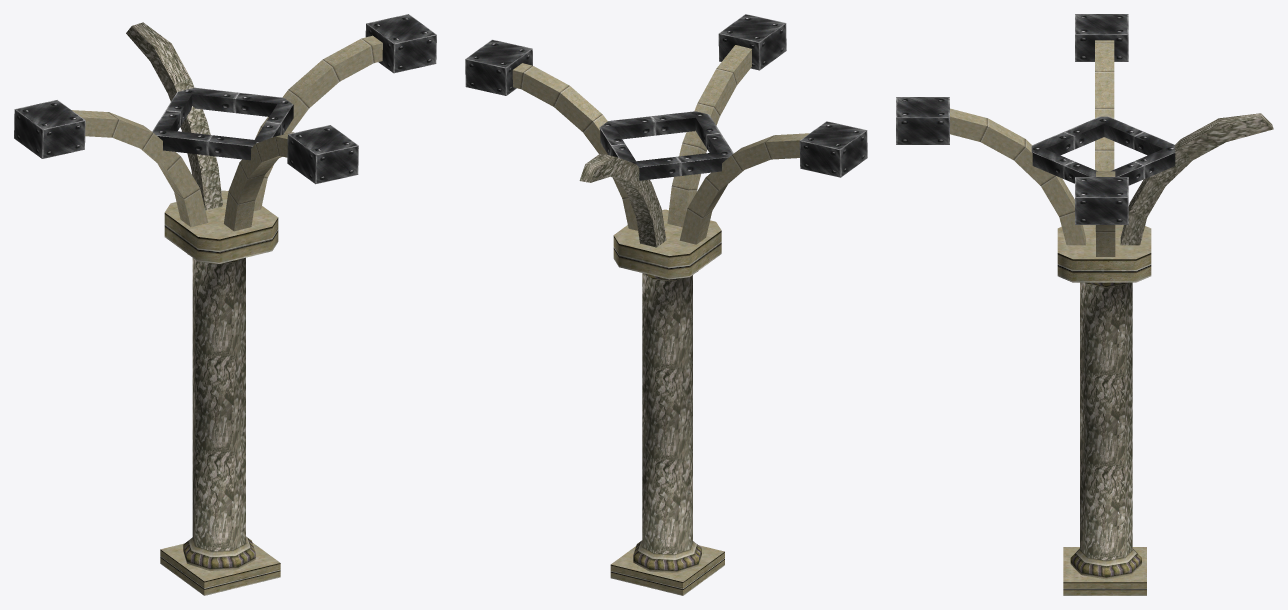
File: INST_SM_COLUMN_CHAIN.obj
The picture shows the model from 3 angles, left to right: view 1: azimuth 30°, elevation 25°; view 2: azimuth 150°, elevation 25°; view 3: azimuth 270°, elevation 25°; orthographic projection. The views are drawn at different scales.
Parts seen in each view (by area): view 1: Cylinder02, Tube01, Box02, Box05, Box08, Box10, Box09, Box11, Box04, Box06, Box01, Object02 (+2 smaller); view 2: Cylinder02, Tube01, Box05, Box06, Box08, Box02, Box09, Box04, Box11, Box10, Box01, Object02 (+2 smaller); view 3: Cylinder02, Tube01, Box02, Box06, Box10, Box11, Box04, Box05, Box09, Object02, Object01, Box01 (+2 smaller).
Boxes of the visible parts, bbox=[...] form: Cylinder02: bbox=[192, 257, 245, 551]; Tube01: bbox=[152, 87, 293, 160]; Box02: bbox=[126, 22, 222, 210]; Box05: bbox=[72, 110, 208, 226]; Box08: bbox=[254, 35, 382, 211]; Box10: bbox=[287, 125, 358, 184]; Box09: bbox=[14, 100, 85, 158]; Box11: bbox=[365, 14, 436, 73]; Box04: bbox=[164, 213, 278, 263]; Box06: bbox=[224, 132, 294, 231]; Box01: bbox=[160, 549, 280, 595]; Object02: bbox=[165, 190, 277, 239]; Cylinder02: bbox=[642, 273, 692, 554]; Tube01: bbox=[599, 111, 733, 180]; Box05: bbox=[679, 133, 809, 244]; Box06: bbox=[667, 45, 751, 227]; Box08: bbox=[512, 63, 637, 230]; Box02: bbox=[579, 153, 666, 247]; Box09: bbox=[799, 121, 867, 177]; Box04: bbox=[613, 230, 721, 279]; Box11: bbox=[465, 39, 532, 95]; Box10: bbox=[718, 14, 786, 70]; Box01: bbox=[610, 552, 724, 595]; Object02: bbox=[614, 209, 721, 255]; Cylinder02: bbox=[1080, 282, 1132, 560]; Tube01: bbox=[1031, 116, 1175, 185]; Box02: bbox=[1120, 113, 1273, 245]; Box06: bbox=[950, 108, 1085, 245]; Box10: bbox=[896, 97, 949, 144]; Box11: bbox=[1075, 177, 1128, 224]; Box04: bbox=[1057, 253, 1151, 282]; Box05: bbox=[1095, 40, 1114, 232]; Box09: bbox=[1075, 14, 1128, 61]; Object02: bbox=[1057, 225, 1151, 259]; Object01: bbox=[1070, 282, 1141, 579]; Box01: bbox=[1063, 582, 1146, 595].
Bounding box in the file's own units: 570 × 690 × 498.
